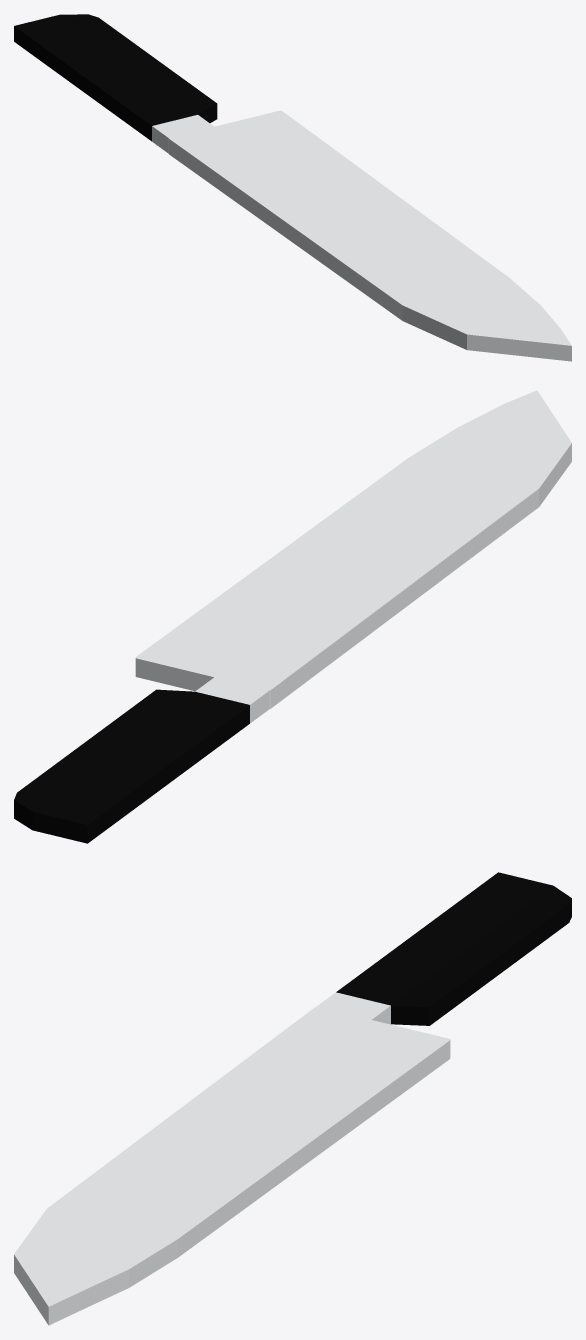
File: Knife.fbx
3 views of the same model, one above another, from view 1: azimuth 30°, elevation 25°; view 2: azimuth 150°, elevation 25°; view 3: azimuth 330°, elevation 25° (orthographic). The views are drawn at different scales.
Visible parts, largest first — view 1: Cube.004; view 2: Cube.004; view 3: Cube.004.
Part boxes in pixels (x1,y1,x2,y2): Cube.004: (14, 14, 571, 361); Cube.004: (14, 390, 571, 843); Cube.004: (14, 872, 571, 1325).
Size of the model in its own units: 14.04 by 1.99 by 99.78.
Materials: 1 (1 with a texture image).
